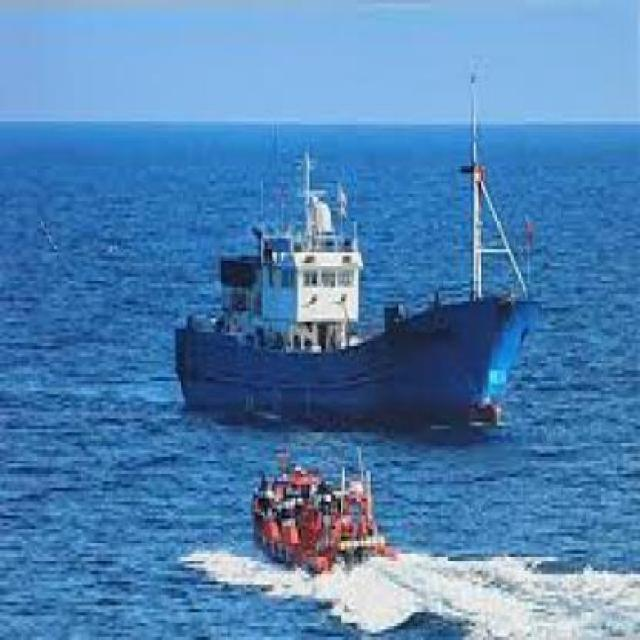fish-b: (153, 67, 555, 464)
